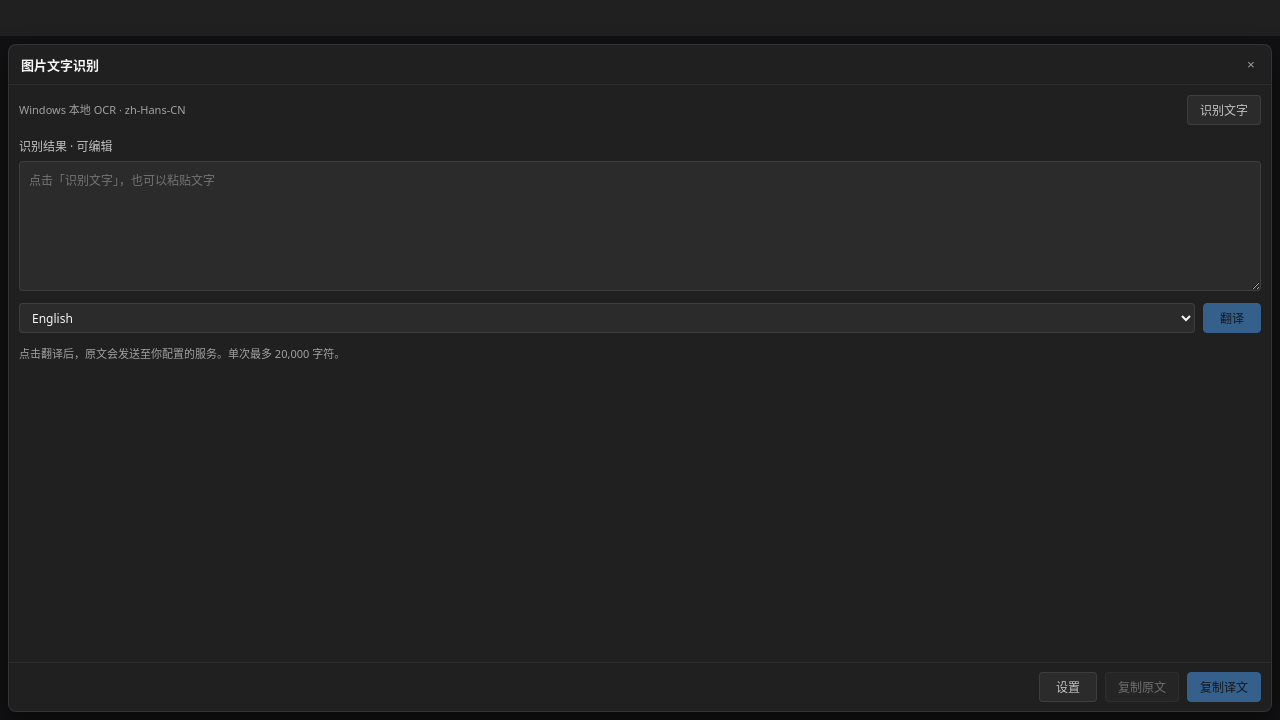
manual text tools › does not recognize or translate automatically; translates the edited OCR text only on click
Later steps or results of the test are not shown.
Click the button "识别文字". click: x=1224, y=110
box: [1187,95,1261,125]
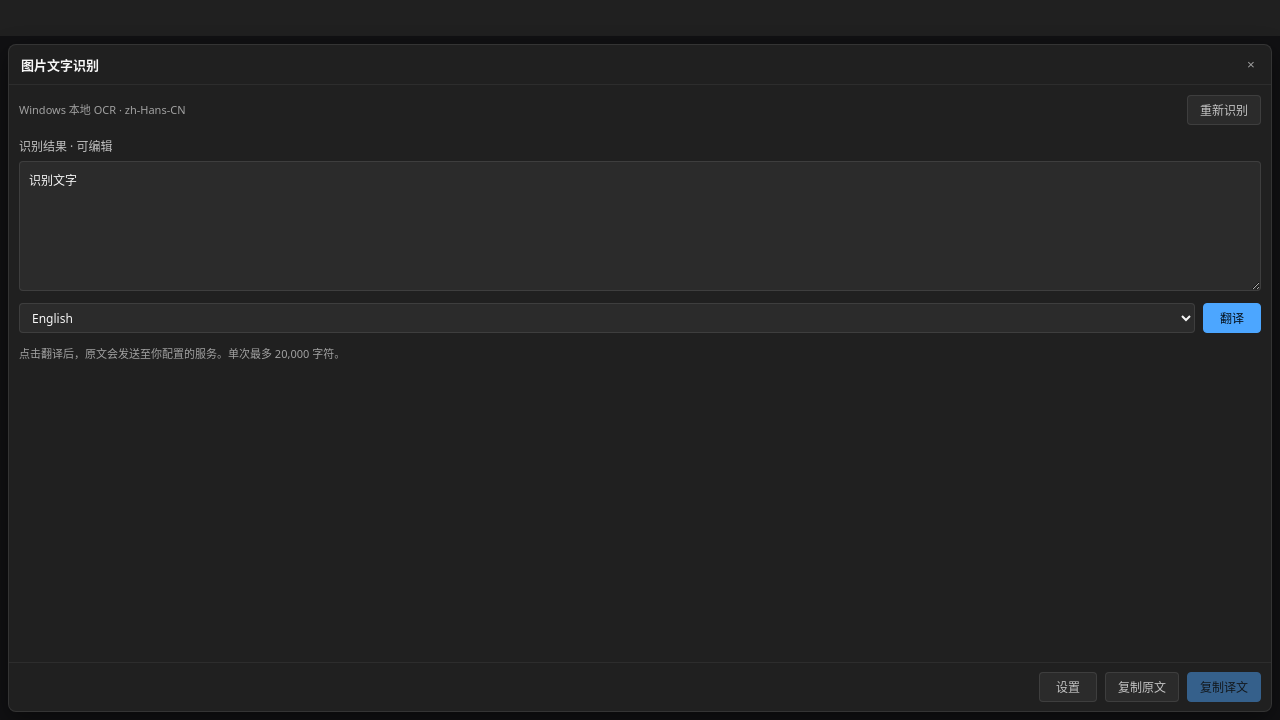
Replace the text in the text box named "待翻译原文" with "修正后的原文". click: x=640, y=226
box: [19,161,1261,291]
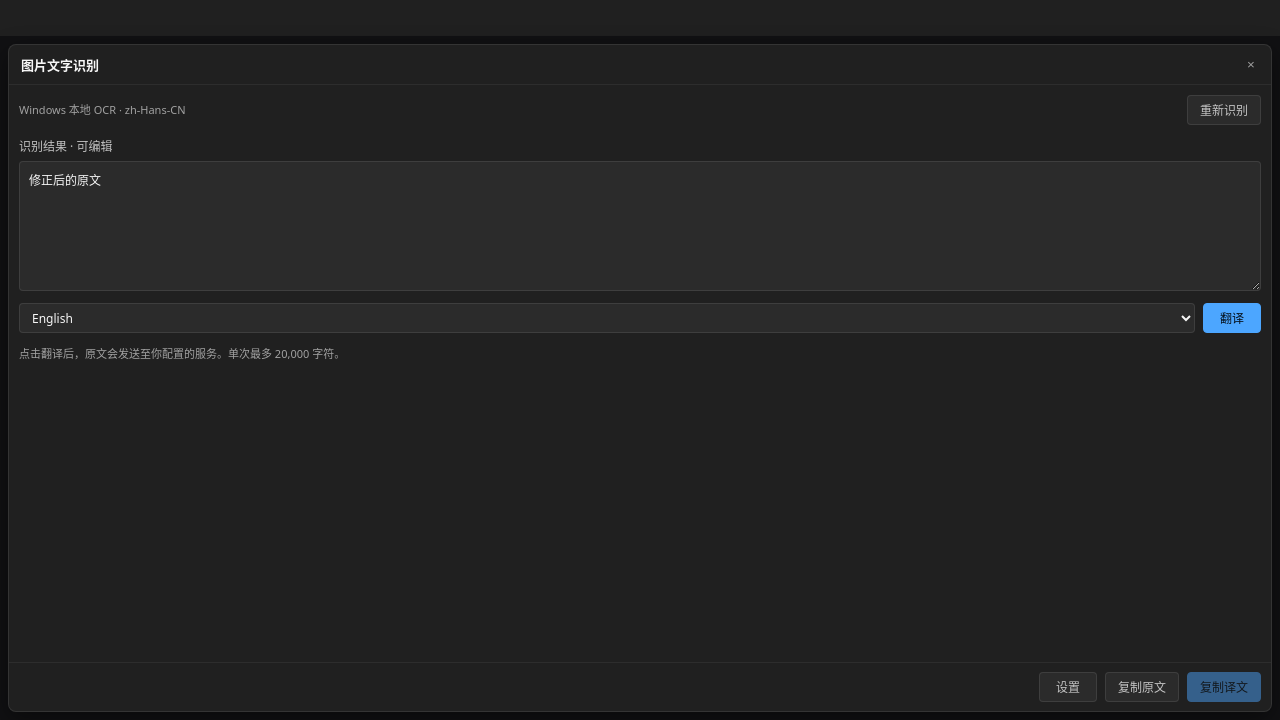
Click the button "翻译". click: x=1232, y=318
box: [1203,303,1261,333]
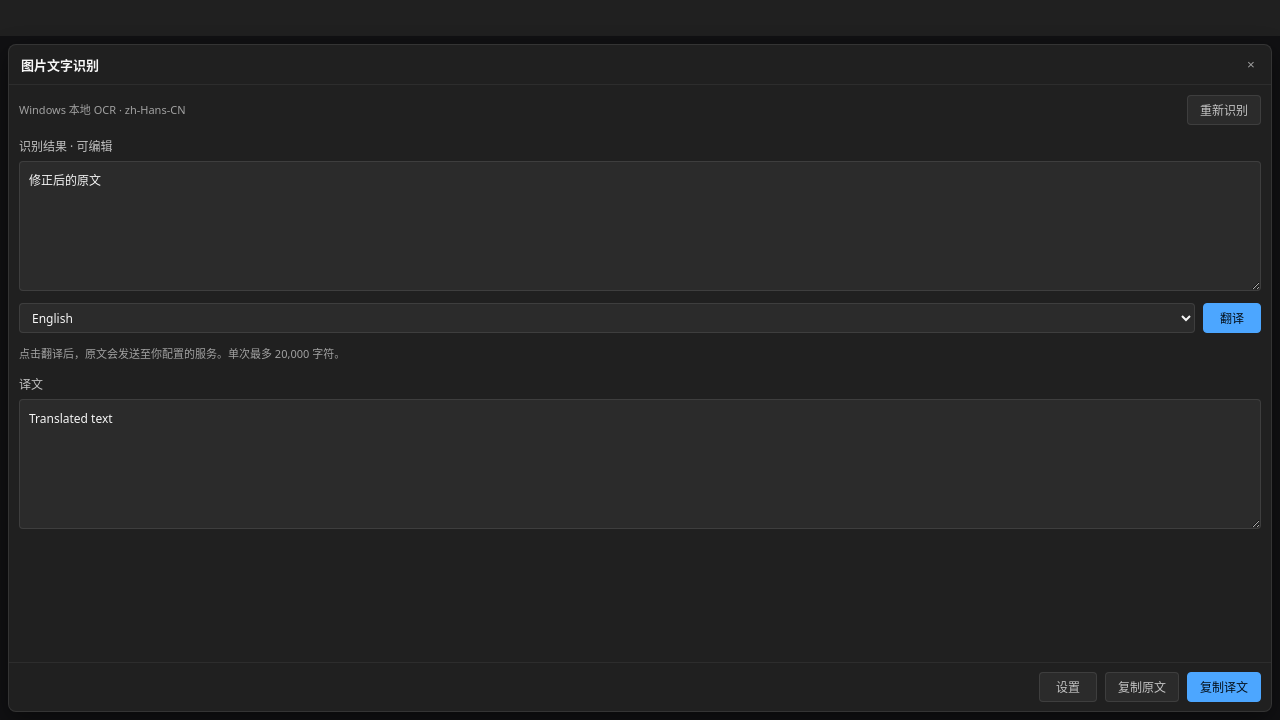
Expected: the text box showing "Translated text" is shown, [19,399,1261,529]
